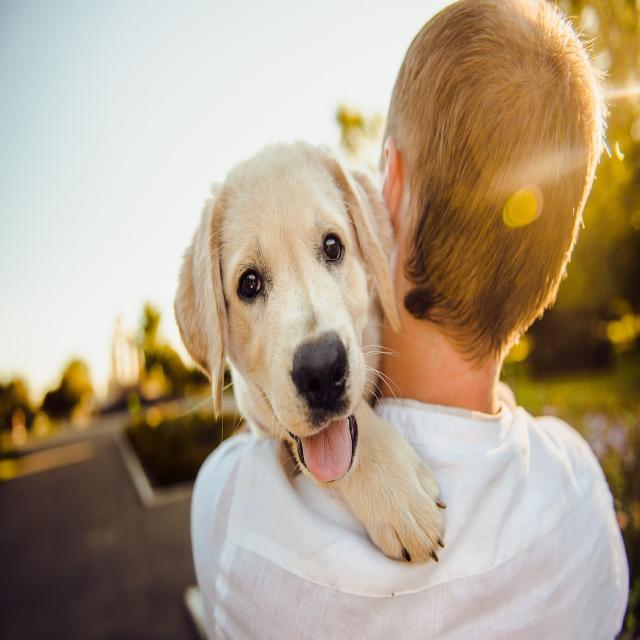dog: (175, 140, 397, 481)
